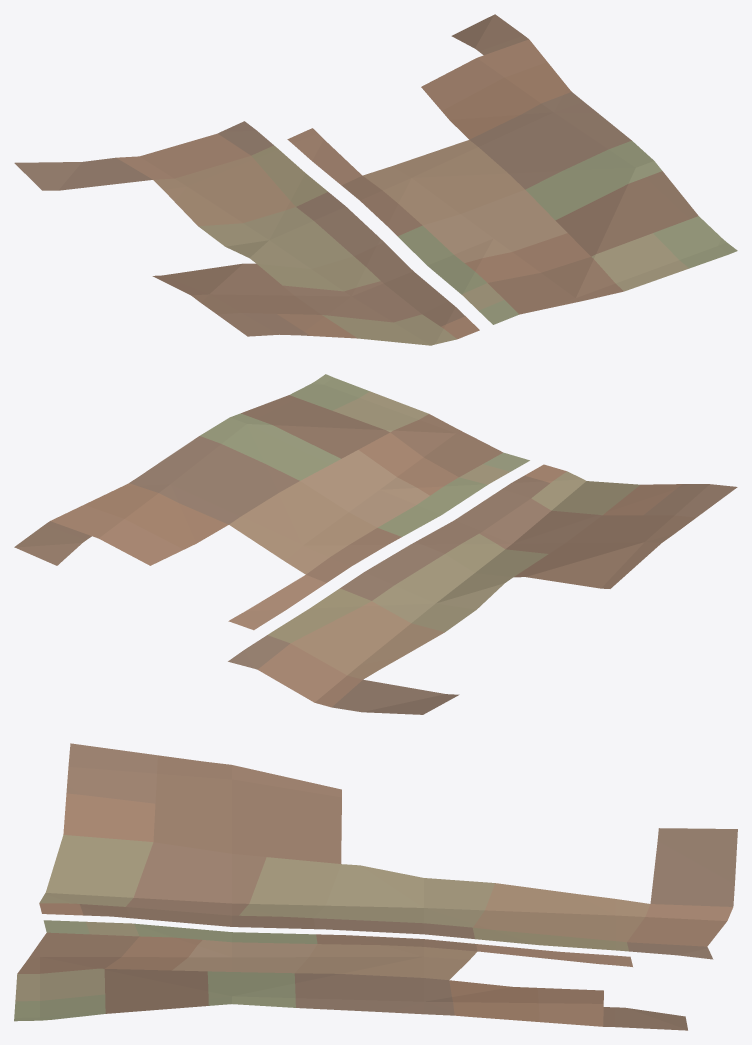
Rendered from farm_-12_6_soil.glb.
3 views of the same model, one above another, from view 1: azimuth 30°, elevation 25°; view 2: azimuth 150°, elevation 25°; view 3: azimuth 270°, elevation 25° (orthographic). The views are drawn at different scales.
Parts seen in each view (by area): view 1: geometry_0; view 2: geometry_0; view 3: geometry_0.
Part boxes in pixels (x1,y1,x2,y2): geometry_0: [14, 14, 737, 345]; geometry_0: [14, 374, 737, 714]; geometry_0: [14, 743, 737, 1030].
Bounding box in the file's own units: 288 × 41.29 × 302.
